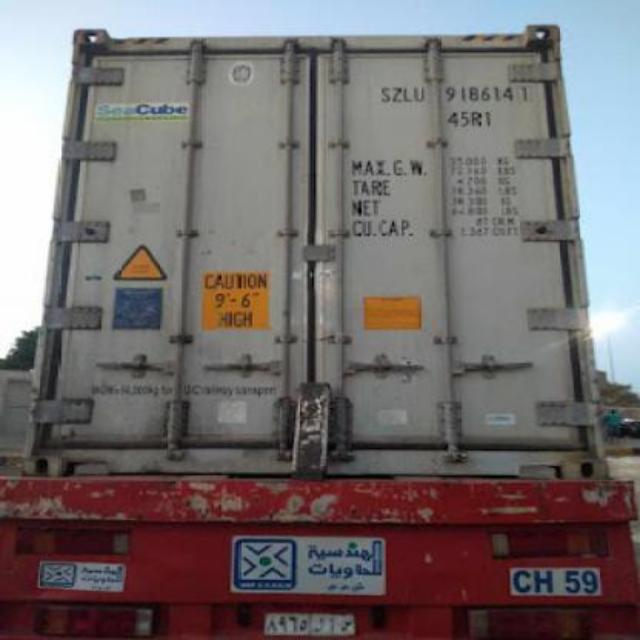1: (518, 84, 532, 100), (458, 84, 470, 102), (492, 84, 502, 102)
4: (502, 84, 516, 102)
6: (480, 84, 492, 102)
8: (470, 84, 480, 102)
9: (444, 84, 458, 102)
L: (402, 86, 414, 104)
S: (378, 86, 392, 102)
U: (414, 86, 428, 102)
Z: (390, 86, 402, 102)
